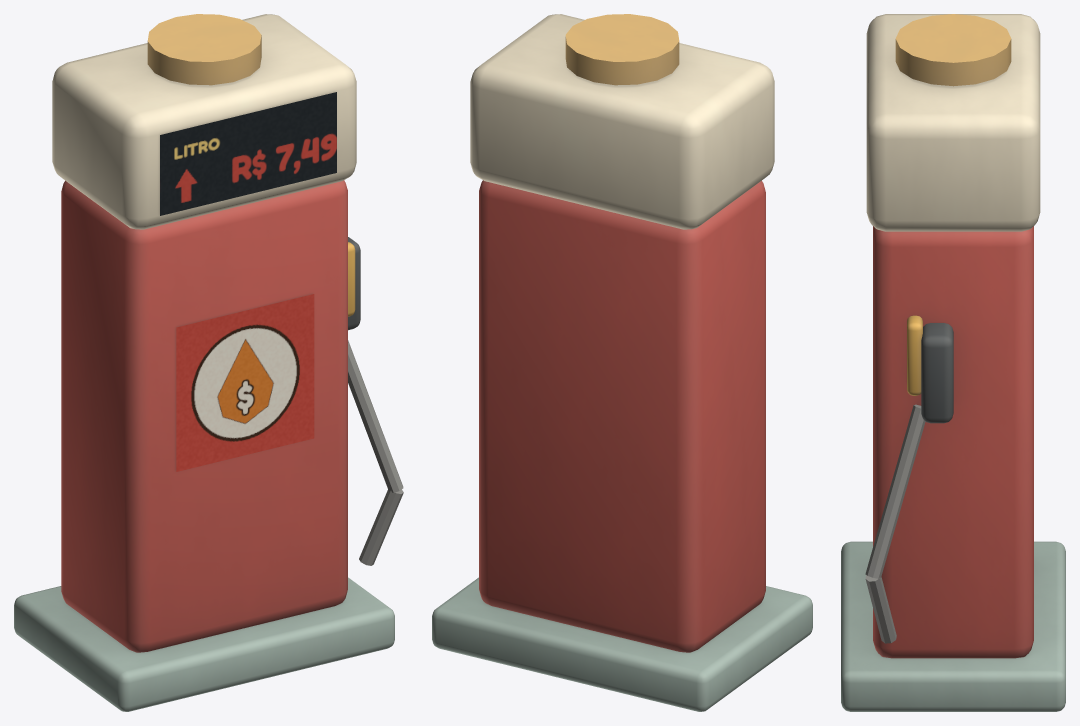
The model's file is FuelPump.fbx.
3 renders of one model, left to right at view 1: azimuth 30°, elevation 25°; view 2: azimuth 150°, elevation 25°; view 3: azimuth 270°, elevation 25°, orthographic.
Visible parts, largest first — view 1: FuelPump; view 2: FuelPump; view 3: FuelPump.
Part boxes in pixels (x1,y1,x2,y2): FuelPump: [14, 14, 403, 711]; FuelPump: [432, 14, 812, 711]; FuelPump: [841, 14, 1065, 711].
Bounding box in the file's own units: 107 × 209 × 70.
